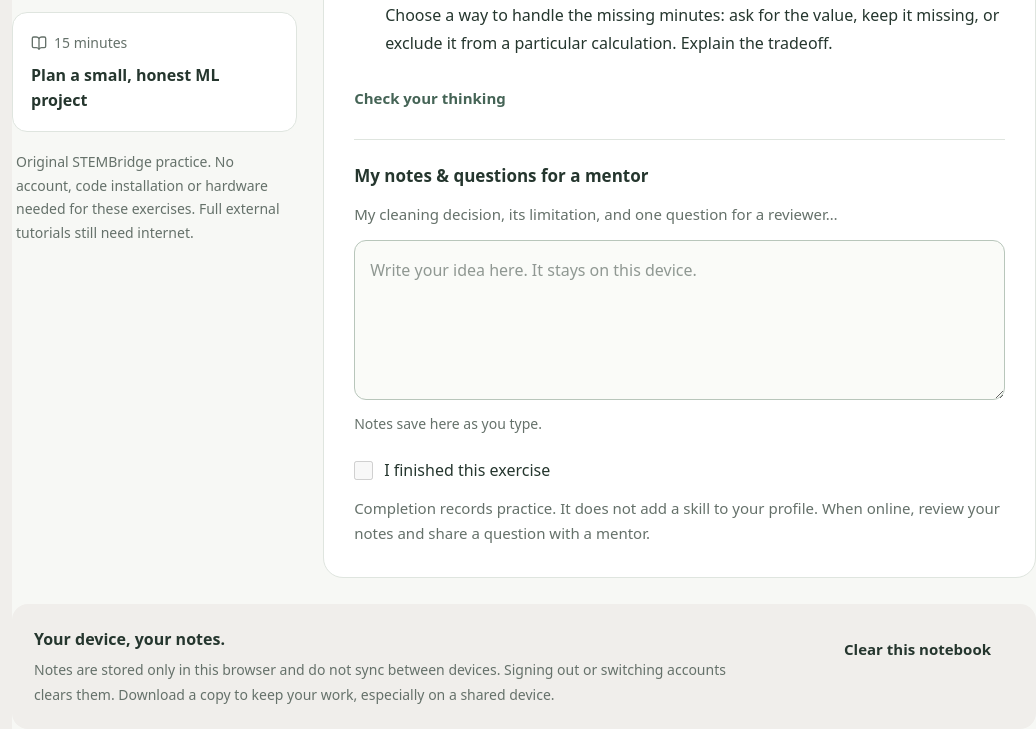
Scenario: bilingual offline learning › keeps expired-account notes private and requires explicit clearing before a new notebook
The image size is (1036, 729).
(page scrolled)
Expected: the text box labelled "My notes & questions for a mentor" is disabled, 354,240 -> 1005,400
Click the button "Clear this notebook": [918, 650] box 821,626 -> 1014,674
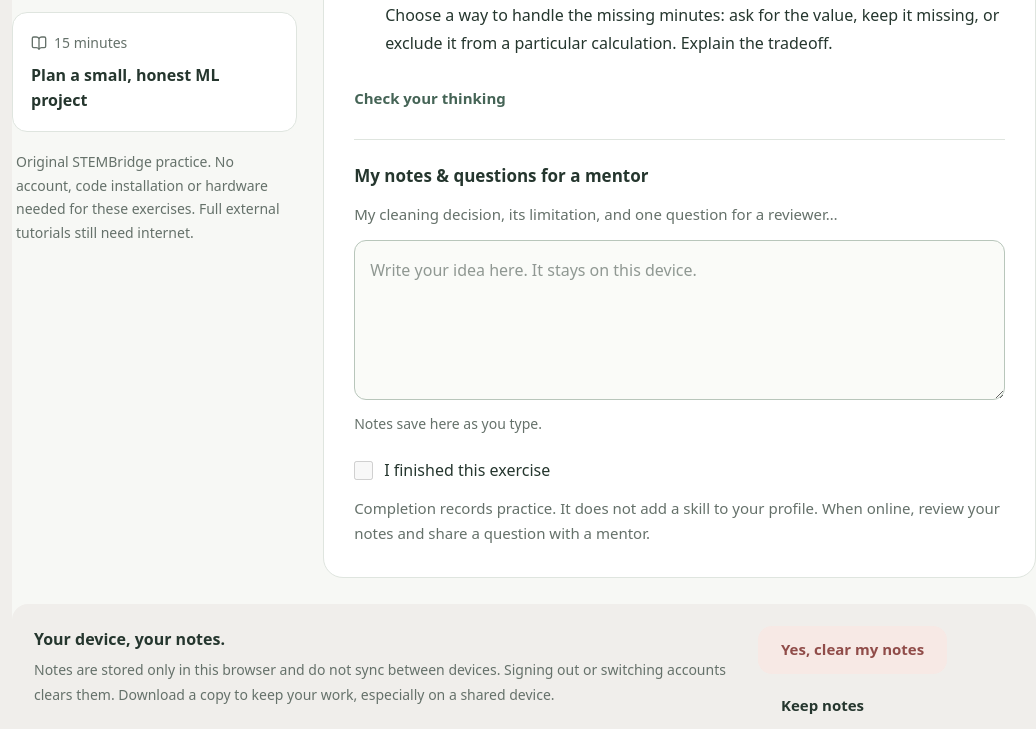
Click the button "Keep notes": [823, 706] box 758,682 -> 887,728
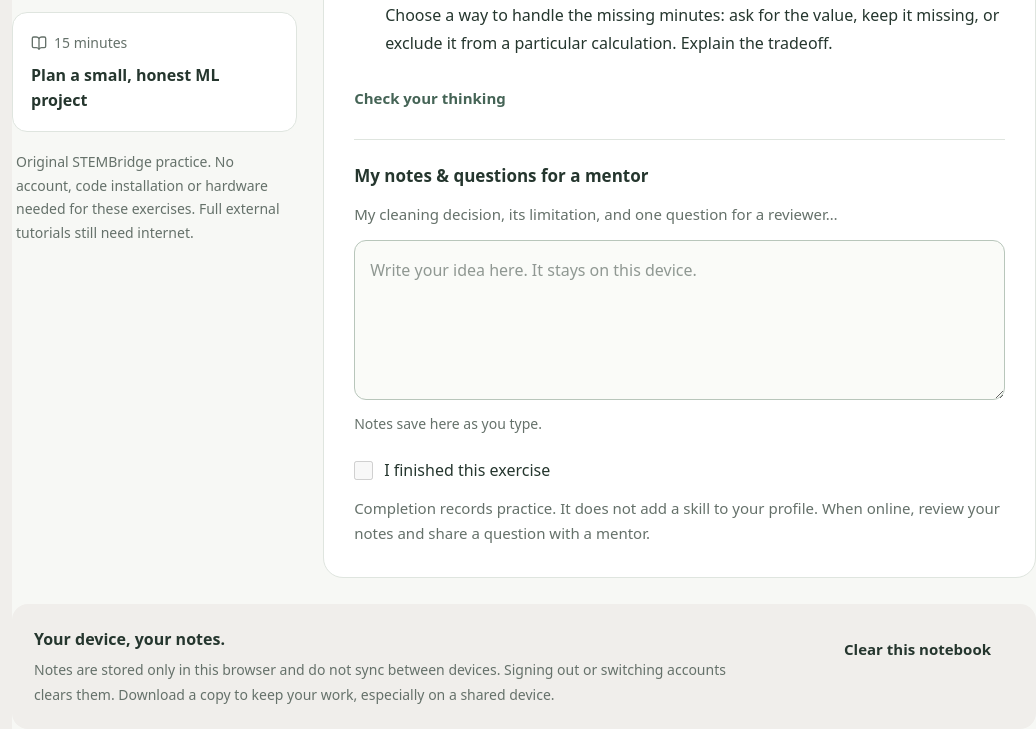
Expected: the text box labelled "My notes & questions for a mentor" is disabled, 354,240 -> 1005,400
Click the button "Clear this notebook": [918, 650] box 821,626 -> 1014,674
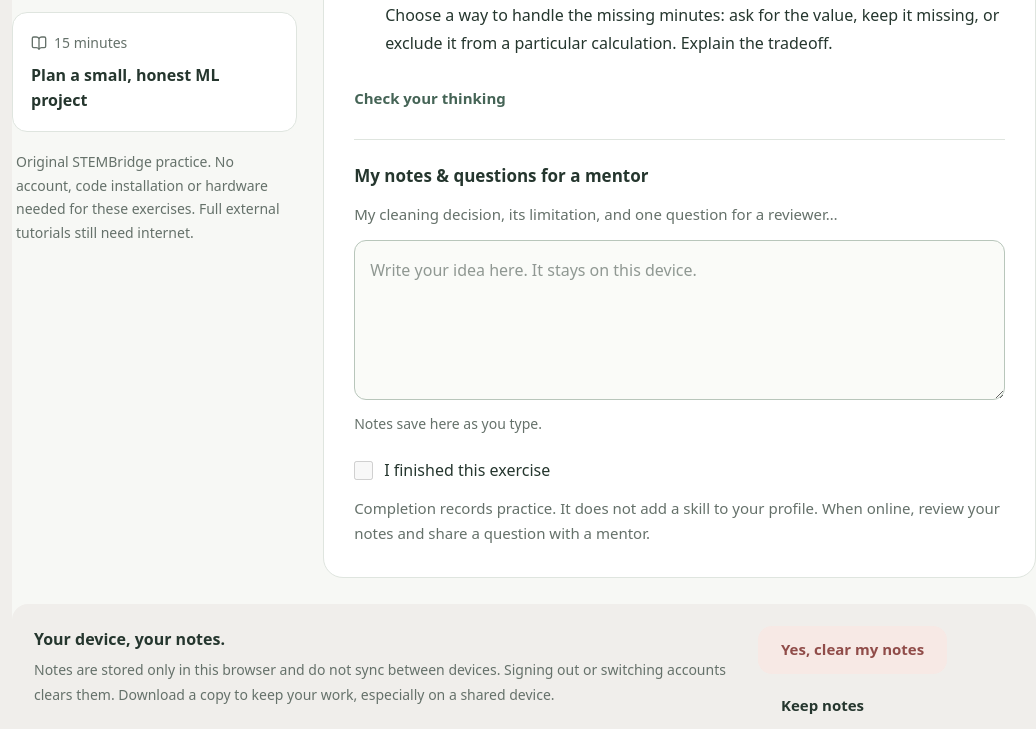
Click the button "Yes, clear my notes": [853, 650] box 758,626 -> 947,674
(page scrolled)
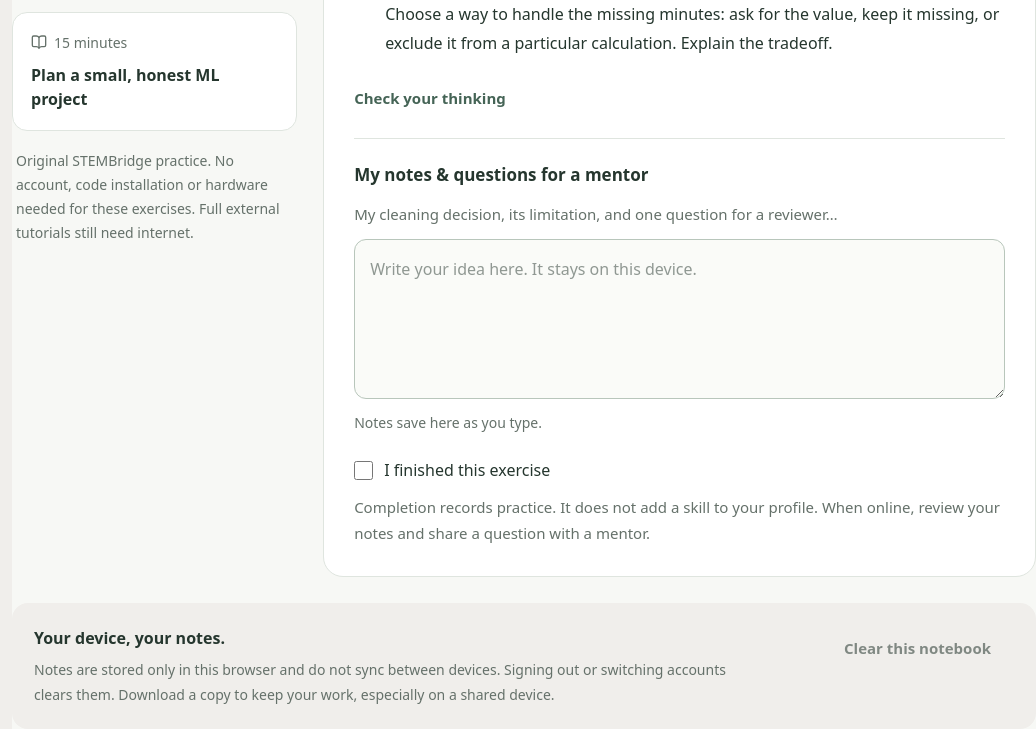
Now the text box labelled "My notes & questions for a mentor" is enabled, box 354,239 -> 1005,399
